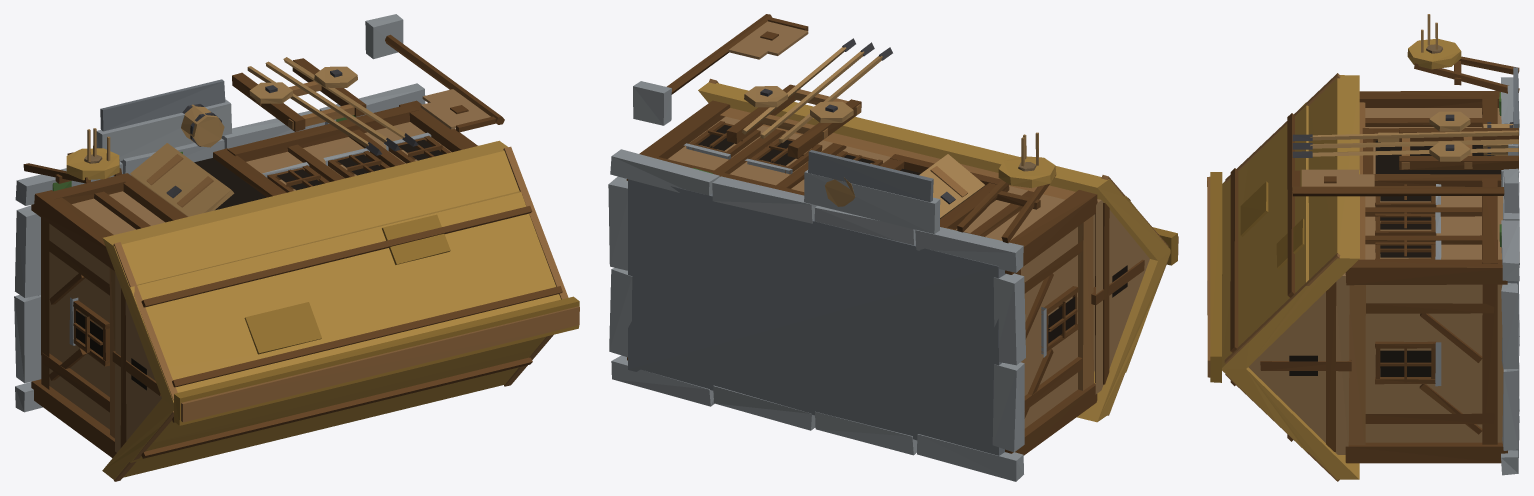
3 renders of one model, left to right at view 1: azimuth 30°, elevation 25°; view 2: azimuth 150°, elevation 25°; view 3: azimuth 270°, elevation 25°, orthographic. The views are drawn at different scales.
Visible parts, largest first — view 1: br_building; view 2: br_building; view 3: br_building.
Part boxes in pixels (x1,y1,x2,y2): br_building: (14, 14, 579, 481); br_building: (608, 14, 1178, 481); br_building: (1207, 14, 1519, 481).
Size of the model in its own units: 4.01 by 2.94 by 2.82.
